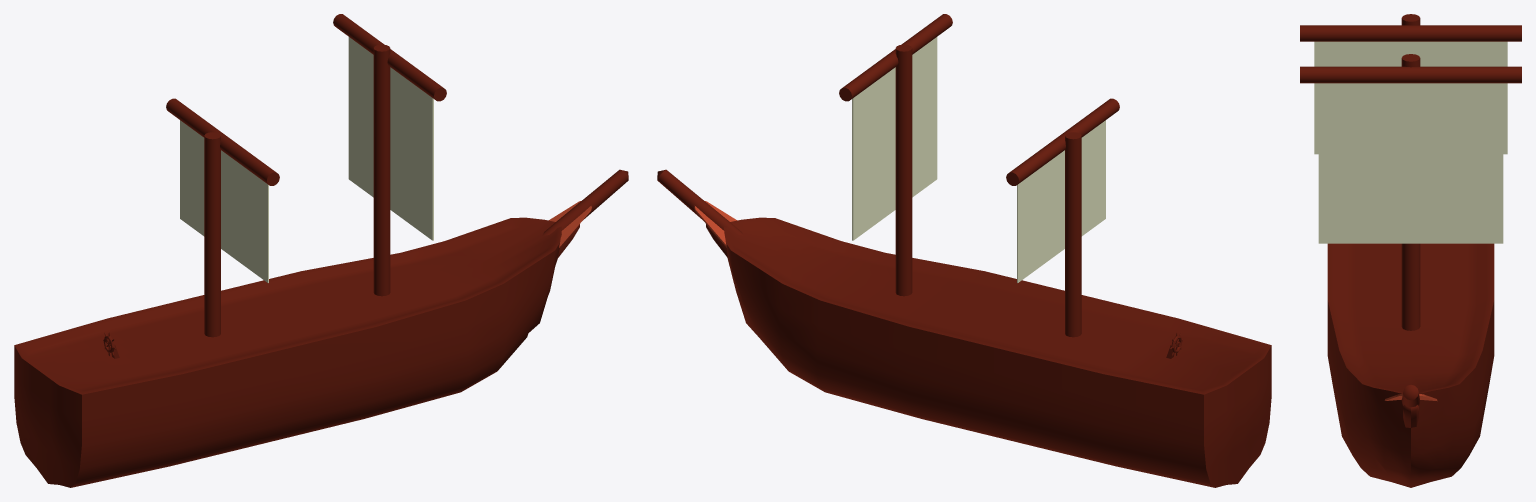
File: Boat_01.fbx
3 views of the same model, side by side, from view 1: azimuth 30°, elevation 25°; view 2: azimuth 150°, elevation 25°; view 3: azimuth 270°, elevation 25° (orthographic). The views are drawn at different scales.
Parts seen in each view (by area): view 1: Casco, VelaFrontal, VelaSecundaria, MastilFrontal, MastilSecundario, PaloVelaSecundaria, PaloVelaFrontal, PaloBaupres; view 2: Casco, VelaFrontal, VelaSecundaria, MastilFrontal, MastilSecundario, PaloVelaSecundaria, PaloVelaFrontal, PaloBaupres; view 3: Casco, VelaFrontal, VelaSecundaria, PaloVelaFrontal, PaloVelaSecundaria, MastilFrontal, PaloBaupres, Soporte.
Part boxes in pixels (<box>): Casco: <box>14,217,561,487</box>; VelaFrontal: <box>348,37,433,240</box>; VelaSecundaria: <box>180,120,268,282</box>; MastilFrontal: <box>373,44,390,296</box>; MastilSecundario: <box>204,132,220,337</box>; PaloVelaSecundaria: <box>166,98,279,185</box>; PaloVelaFrontal: <box>333,14,446,101</box>; PaloBaupres: <box>542,169,628,235</box>; Casco: <box>724,217,1271,487</box>; VelaFrontal: <box>852,37,937,240</box>; VelaSecundaria: <box>1017,120,1105,282</box>; MastilFrontal: <box>895,44,912,296</box>; MastilSecundario: <box>1065,132,1081,337</box>; PaloVelaSecundaria: <box>1006,98,1119,185</box>; PaloVelaFrontal: <box>839,14,952,101</box>; PaloBaupres: <box>657,169,743,235</box>; Casco: <box>1327,243,1494,487</box>; VelaFrontal: <box>1318,83,1503,243</box>; VelaSecundaria: <box>1314,41,1507,154</box>; PaloVelaFrontal: <box>1300,66,1521,83</box>; PaloVelaSecundaria: <box>1300,25,1521,41</box>; MastilFrontal: <box>1401,54,1420,330</box>; PaloBaupres: <box>1401,385,1420,407</box>; Soporte: <box>1403,405,1418,427</box>.
Size of the model in its own units: 1213 by 699 by 360.
